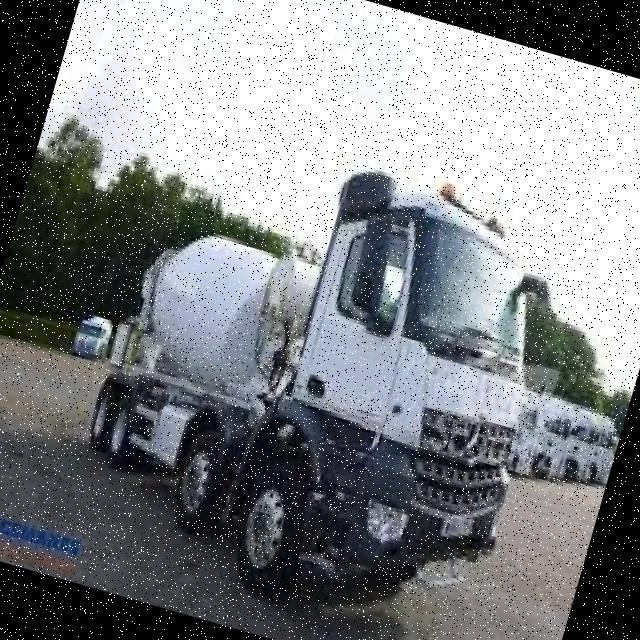Mixer Truck: (52, 101, 590, 640)
